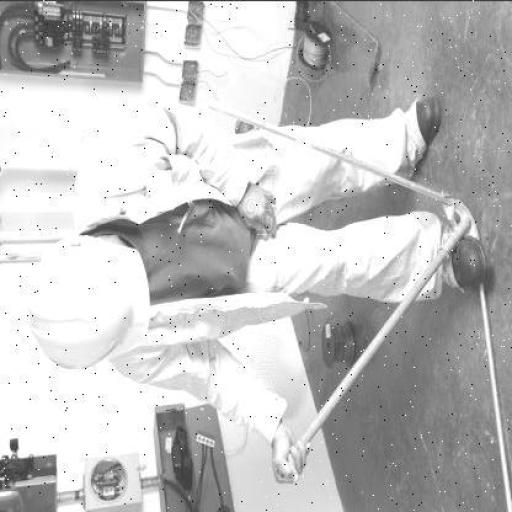person: (28, 88, 490, 426)
safety_shoe: (438, 231, 492, 290), (404, 92, 444, 149)
